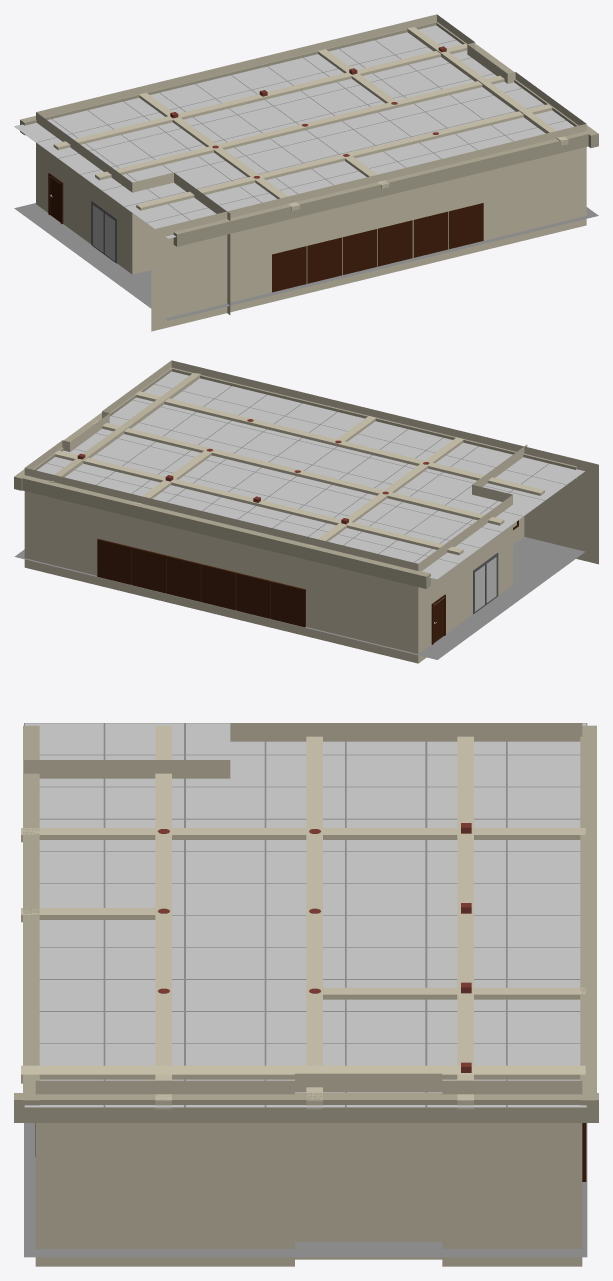
Rendered from Library.fbx.
3 renders of one model, top to bottom at view 1: azimuth 30°, elevation 25°; view 2: azimuth 150°, elevation 25°; view 3: azimuth 270°, elevation 25°, orthographic. The views are drawn at different scales.
Parts seen in each view (by area): view 1: Cube; view 2: Cube; view 3: Cube.
Part boxes in pixels (<box>): Cube: <box>14,14,598,331</box>; Cube: <box>14,360,598,663</box>; Cube: <box>14,723,598,1266</box>.
Bounding box in the file's own units: 4971 × 1183 × 3096.
